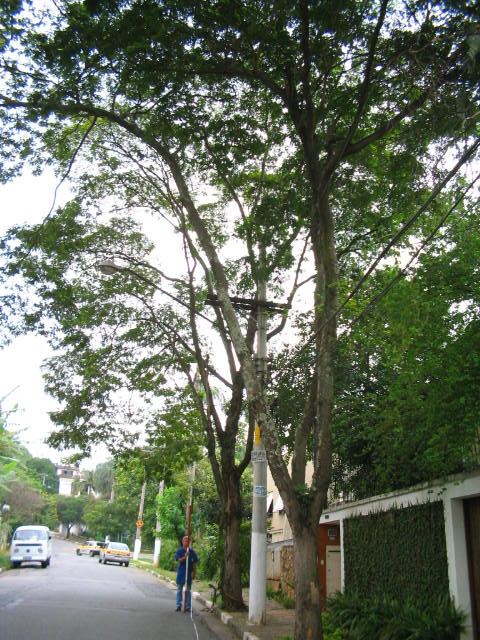crown: (3, 147, 441, 479), (1, 1, 478, 188)
stem: (279, 520, 336, 638), (207, 485, 250, 611)
stick: (181, 488, 198, 611)
tree: (1, 1, 480, 638), (1, 144, 442, 611)
